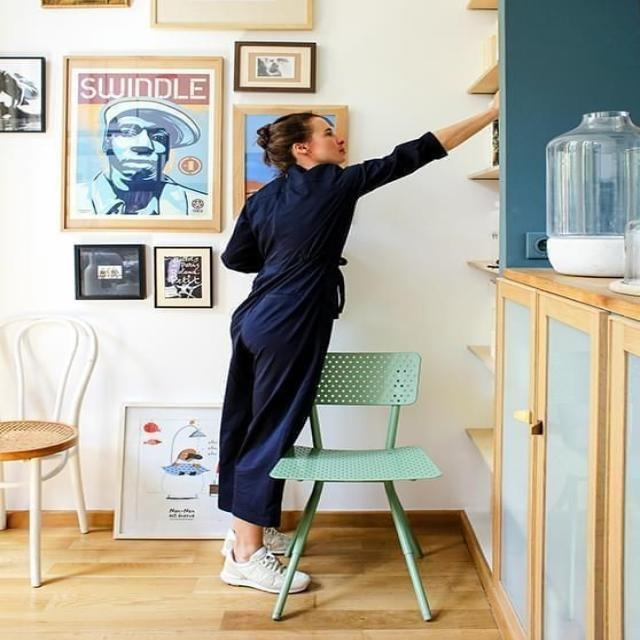obstacle: (502, 269, 639, 640), (266, 350, 443, 622), (0, 314, 99, 588), (0, 419, 78, 587)
person: (216, 90, 500, 594)
